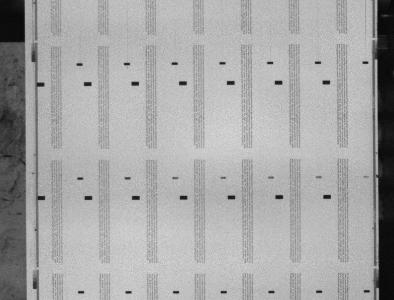incorrect qblock: (172, 176, 179, 179), (268, 176, 275, 179), (220, 176, 227, 179), (316, 175, 322, 178), (364, 175, 370, 178)
qblock: (131, 81, 140, 86), (84, 195, 93, 200), (132, 195, 140, 200), (227, 80, 235, 85), (37, 82, 45, 87), (275, 80, 283, 85), (323, 80, 331, 85), (180, 195, 188, 200), (324, 194, 332, 199), (179, 81, 187, 85), (228, 195, 236, 199), (37, 196, 45, 200), (84, 82, 92, 86), (276, 195, 284, 199)
smallqblock: (124, 62, 130, 66), (316, 290, 324, 293), (76, 63, 83, 66), (315, 61, 322, 64), (77, 177, 84, 180), (267, 61, 274, 64), (219, 62, 226, 65), (173, 290, 180, 293), (78, 290, 85, 293), (364, 289, 371, 292), (125, 290, 132, 293), (363, 61, 369, 64), (172, 62, 178, 65), (125, 177, 131, 180), (221, 290, 227, 293), (269, 290, 275, 293)
